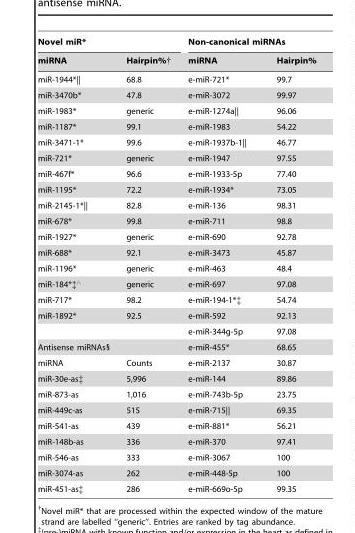table: (37, 37, 315, 493)
table column: (178, 37, 260, 493), (106, 37, 178, 493), (37, 37, 106, 493), (260, 37, 315, 493)
table column header: (37, 37, 315, 70)
table row: (37, 50, 315, 70), (37, 70, 315, 87), (37, 102, 315, 118), (37, 118, 315, 134), (37, 134, 315, 150), (37, 165, 315, 181), (37, 181, 315, 197), (37, 197, 315, 213), (37, 228, 315, 244), (37, 244, 315, 260), (37, 275, 315, 291), (37, 291, 315, 307), (37, 307, 315, 323), (37, 323, 315, 339), (37, 354, 315, 370), (37, 370, 315, 386), (37, 386, 315, 402), (37, 417, 315, 433), (37, 433, 315, 449), (37, 449, 315, 465), (37, 87, 315, 102), (37, 150, 315, 165), (37, 213, 315, 228), (37, 260, 315, 275), (37, 339, 315, 354), (37, 402, 315, 417), (37, 465, 315, 480), (37, 37, 315, 50), (37, 480, 315, 493)
table spanning cell: (37, 339, 178, 354), (37, 37, 178, 50), (178, 37, 315, 50)
